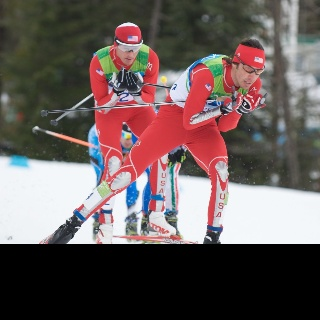without_mask: (236, 63, 262, 90), (116, 45, 138, 66)
